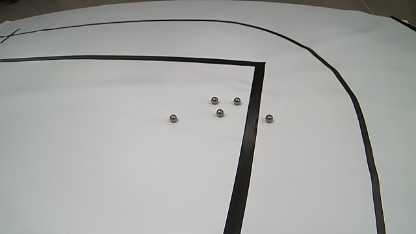ironball: (216, 108, 224, 117), (265, 114, 273, 123), (211, 96, 219, 104), (169, 114, 177, 122), (233, 97, 241, 105)
